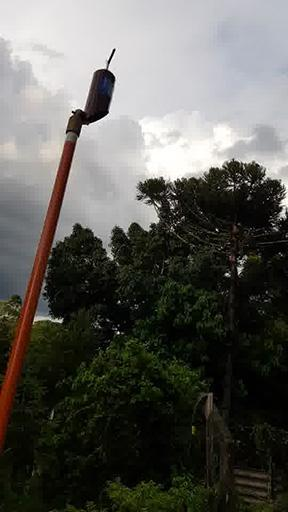Detector_Tensao_Contato: (82, 46, 116, 124)
Vara_Manobra: (1, 120, 82, 440)
